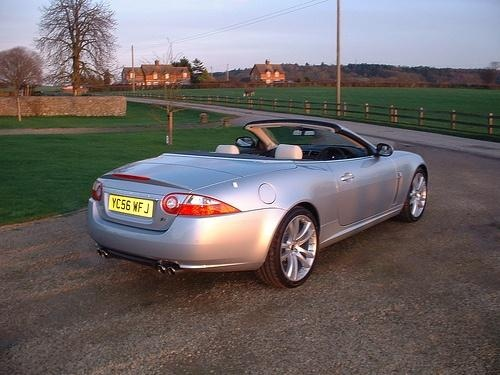car: (85, 117, 432, 291)
